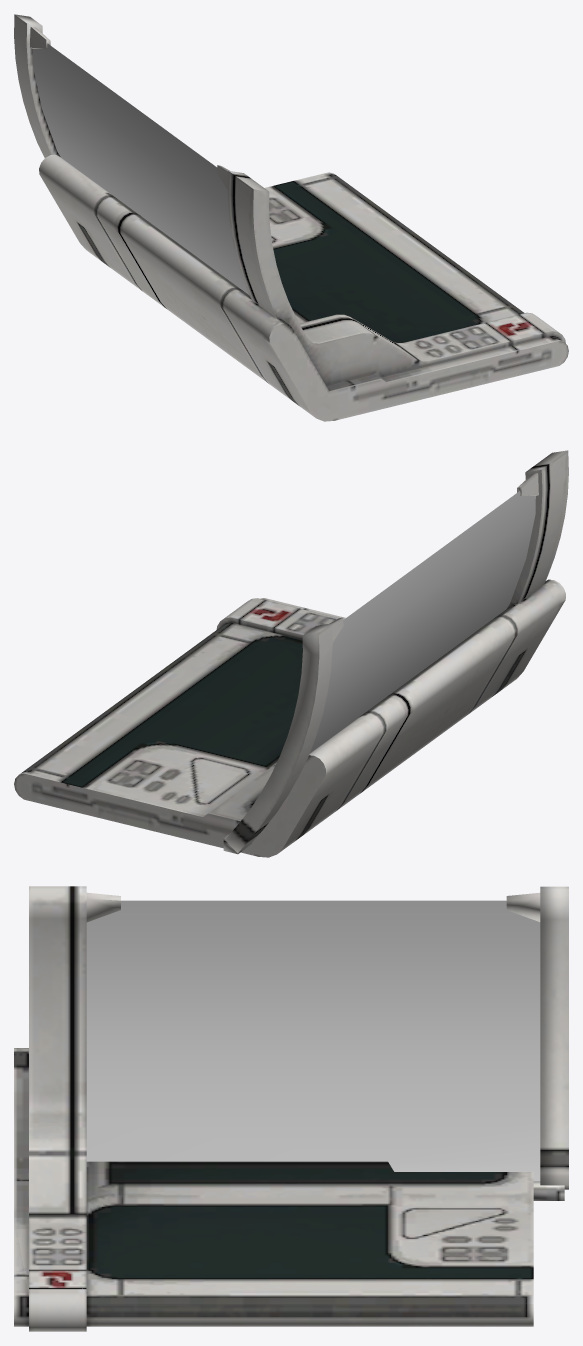
The model's file is Computer02.FBX.
3 renders of one model, top to bottom at view 1: azimuth 30°, elevation 25°; view 2: azimuth 150°, elevation 25°; view 3: azimuth 270°, elevation 25°, orthographic. The views are drawn at different scales.
Visible parts, largest first — view 1: Computer02; view 2: Computer02; view 3: Computer02.
Part boxes in pixels (bbox=[...]): Computer02: bbox=[14, 14, 568, 421]; Computer02: bbox=[14, 450, 568, 857]; Computer02: bbox=[14, 886, 568, 1331].
Size of the model in its own units: 0.5271 by 0.3933 by 0.7175.
